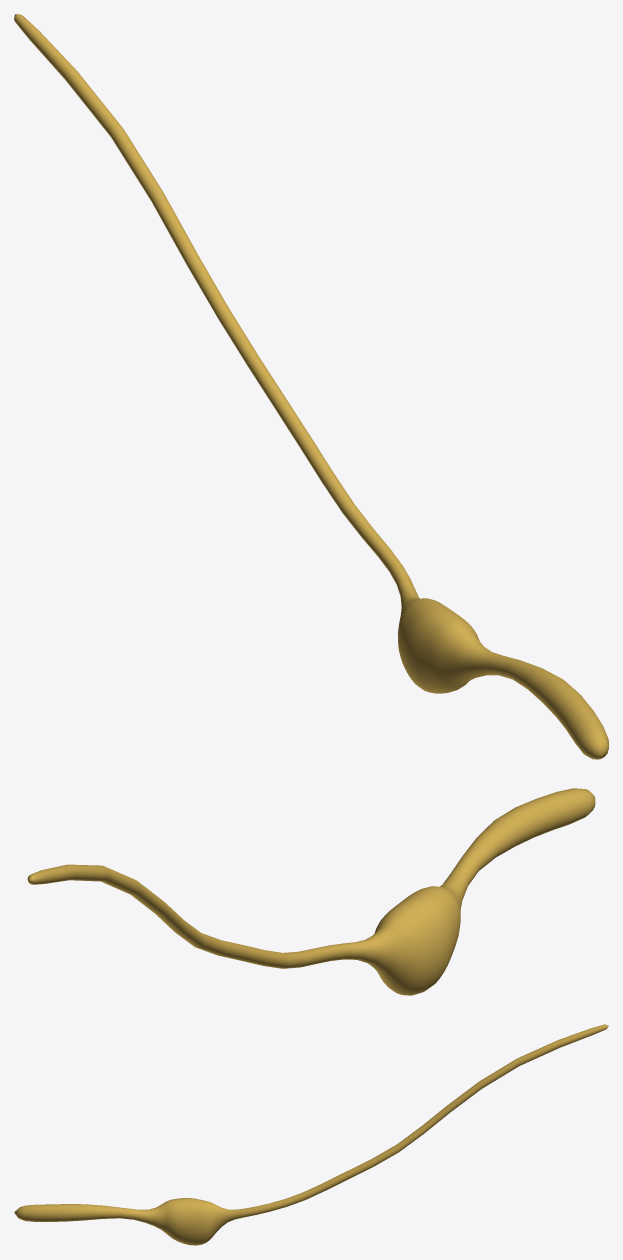
3 renders of one model, top to bottom at view 1: azimuth 30°, elevation 25°; view 2: azimuth 150°, elevation 25°; view 3: azimuth 270°, elevation 25°, orthographic. The views are drawn at different scales.
Visible parts, largest first — view 1: 左侧三叉神经感觉根; view 2: 左侧三叉神经感觉根; view 3: 左侧三叉神经感觉根.
Part boxes in pixels (x1,y1,x2,y2): 左侧三叉神经感觉根: [14, 14, 608, 759]; 左侧三叉神经感觉根: [27, 788, 595, 995]; 左侧三叉神经感觉根: [14, 1024, 608, 1245].
Size of the model in its own units: 0.00646 by 0.0388 by 0.0984.
